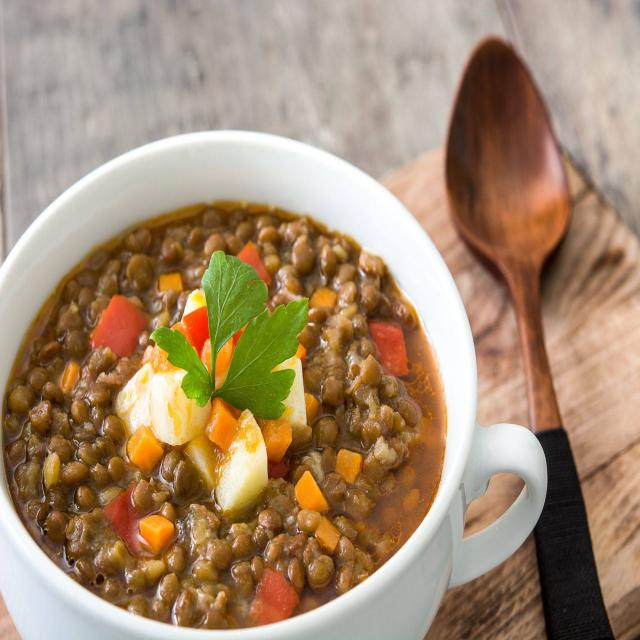lentejas: (15, 190, 448, 618)
